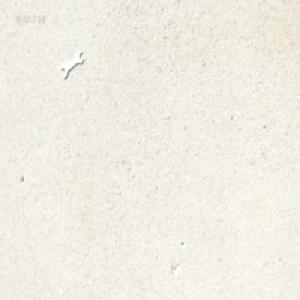Wrench: (61, 46, 84, 78)
